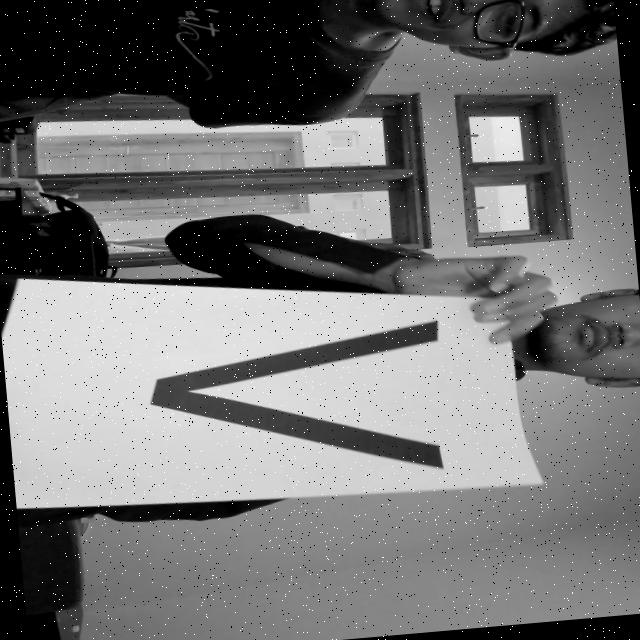v: (132, 308, 472, 498)
